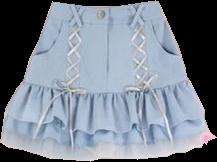Hemline: (1, 135, 216, 160), (4, 111, 206, 136)
Waistline: (48, 1, 165, 24), (23, 78, 189, 92)
